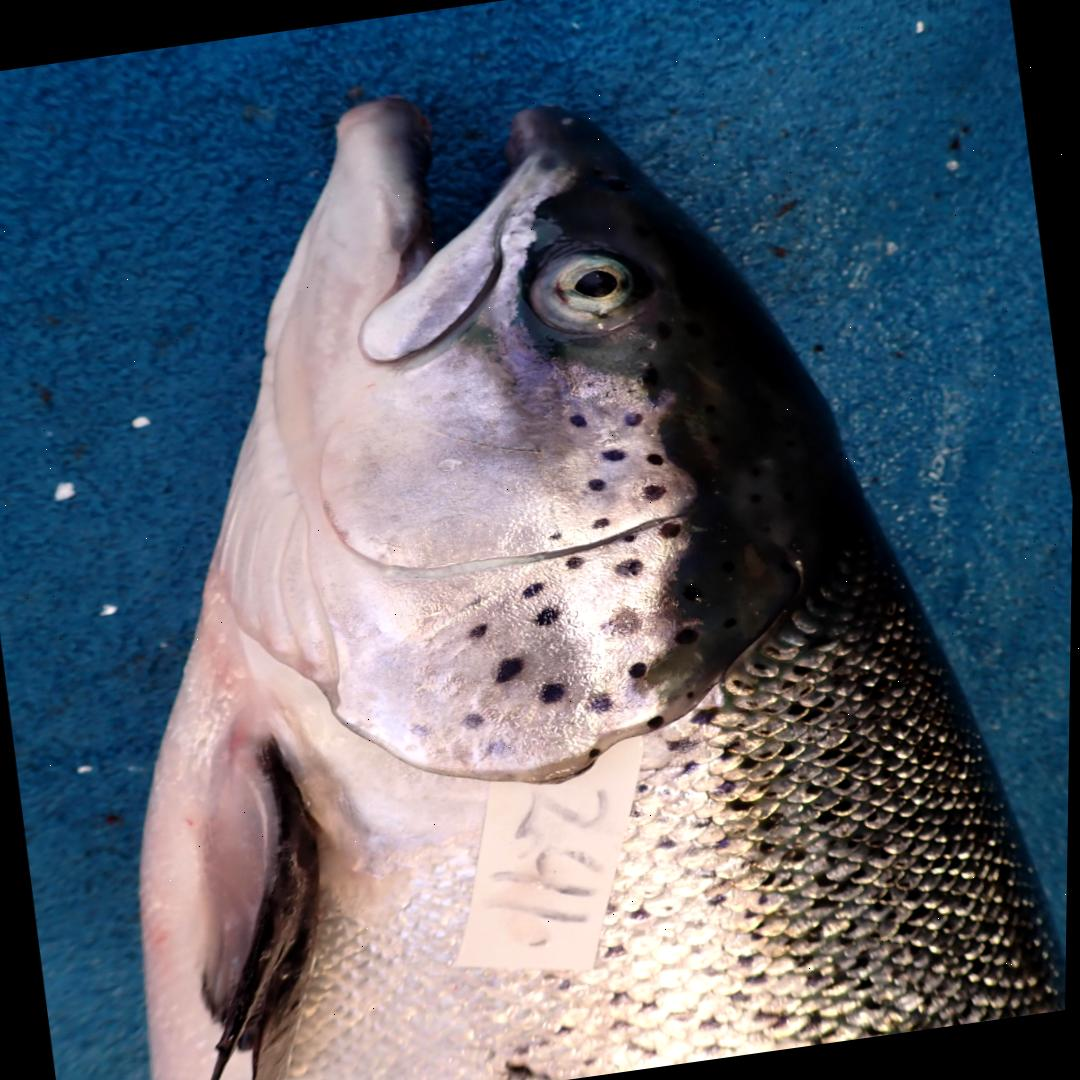spot: (610, 608, 643, 635), (497, 656, 525, 683), (483, 739, 519, 760), (540, 682, 567, 704), (588, 694, 615, 714), (615, 559, 644, 577), (536, 607, 562, 627), (642, 365, 660, 389), (411, 722, 437, 738), (462, 713, 486, 730), (659, 521, 682, 538), (676, 628, 699, 644), (643, 484, 666, 500), (603, 448, 626, 462), (624, 412, 644, 427), (524, 583, 544, 598), (630, 663, 648, 679), (471, 623, 488, 638), (649, 715, 666, 729), (589, 747, 606, 761), (569, 414, 587, 427), (567, 556, 585, 569), (647, 453, 665, 465), (594, 517, 611, 529), (589, 479, 607, 490), (625, 533, 637, 542), (549, 533, 564, 540)
